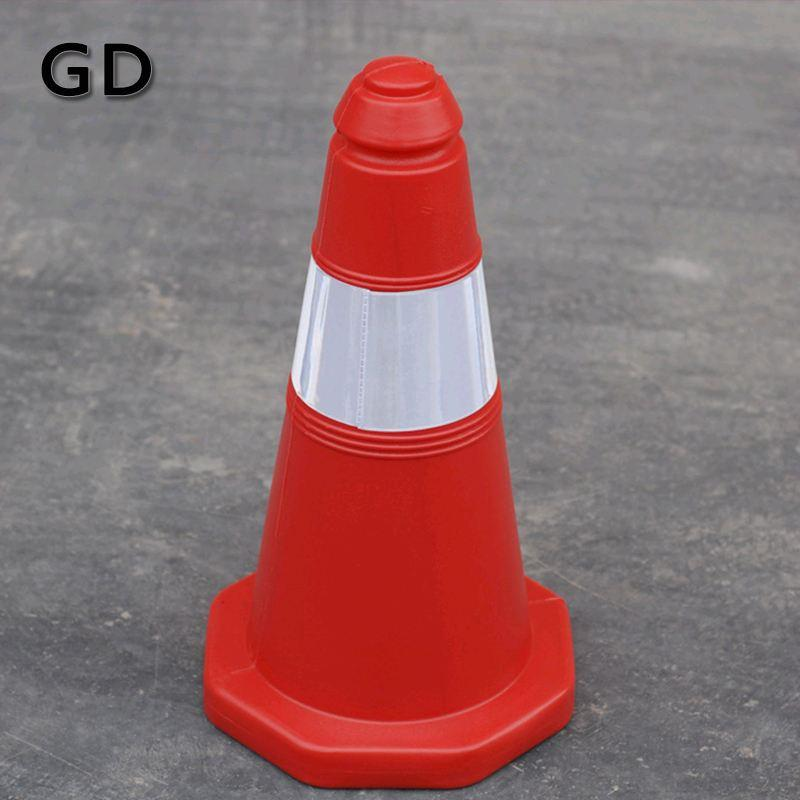sign: (176, 55, 586, 789)
